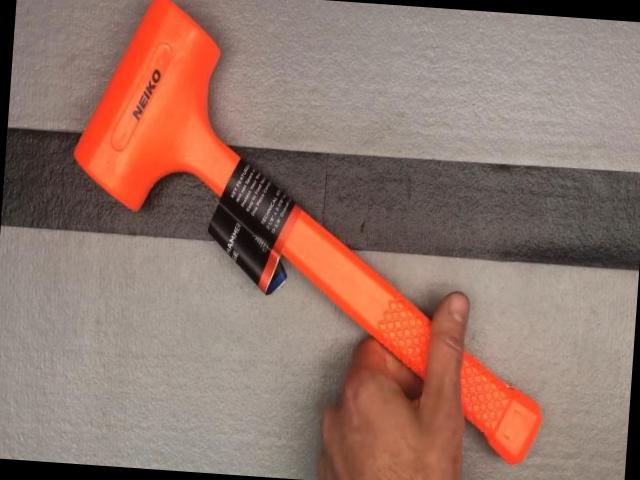hammer: (54, 0, 569, 468)
